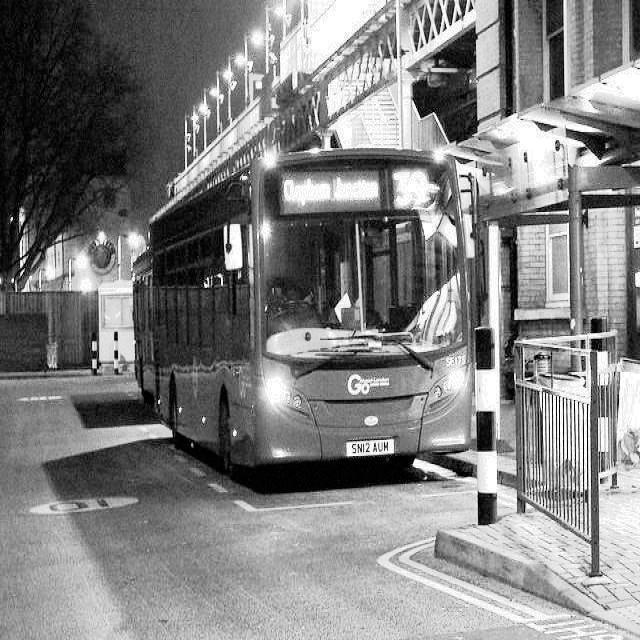Bus: (131, 154, 484, 484)
